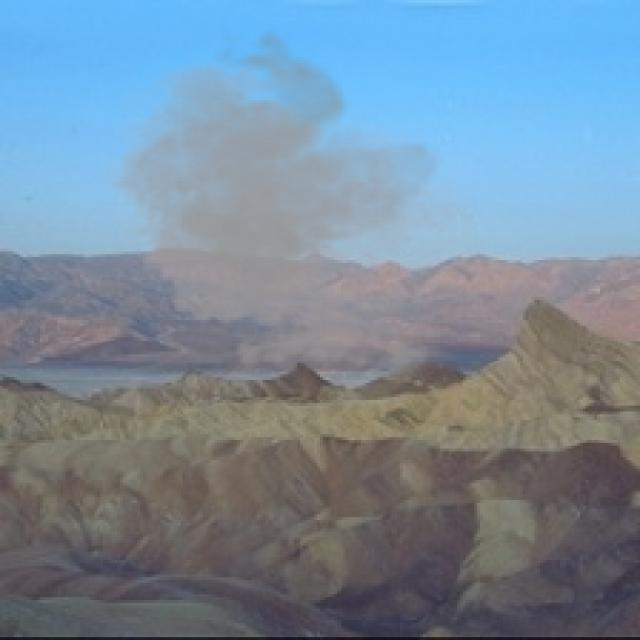smoke: (89, 29, 497, 388)
